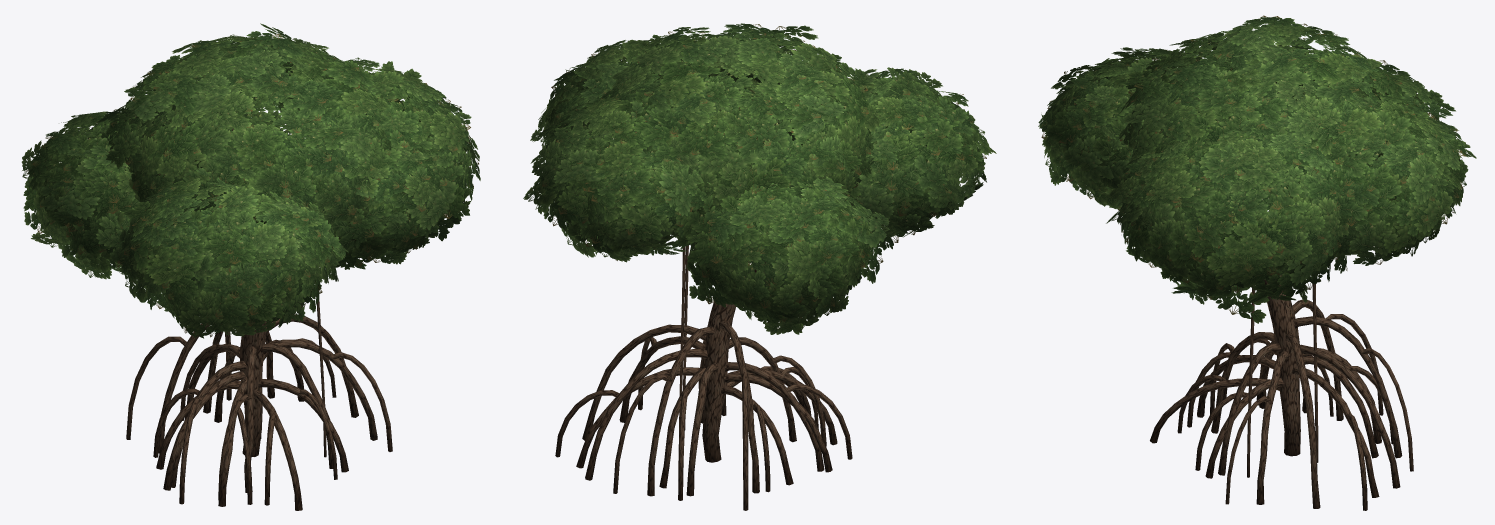
Rendered from mangrove_c.glb.
3 renders of one model, left to right at view 1: azimuth 30°, elevation 25°; view 2: azimuth 150°, elevation 25°; view 3: azimuth 270°, elevation 25°, orthographic.
Visible parts, largest first — view 1: leaves, wood; view 2: leaves, wood; view 3: leaves, wood.
Boxes of the visible parts, left/top/right/bottom form: leaves: left=21, top=23, right=480, bottom=338; wood: left=126, top=128, right=392, bottom=510; leaves: left=523, top=23, right=996, bottom=334; wood: left=555, top=245, right=852, bottom=510; leaves: left=1038, top=15, right=1476, bottom=323; wood: left=1150, top=275, right=1413, bottom=510.
Size of the model in its own units: 10.02 by 10.37 by 10.02.
2 materials, 2 textured.
